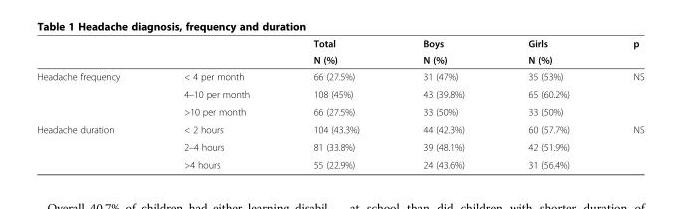table: (36, 37, 643, 170)
table column: (151, 37, 280, 170), (36, 37, 151, 170), (280, 37, 390, 170), (390, 37, 495, 170), (495, 37, 600, 170), (600, 37, 643, 170)
table column header: (36, 37, 643, 67)
table row: (36, 67, 643, 85), (36, 102, 643, 120), (36, 137, 643, 155), (36, 85, 643, 102), (36, 120, 643, 137), (36, 51, 643, 67), (36, 155, 643, 170), (36, 37, 643, 51)
table spanning cell: (36, 67, 151, 120), (36, 120, 151, 170), (280, 37, 390, 67), (390, 37, 495, 67), (495, 37, 600, 67), (600, 37, 643, 67)
